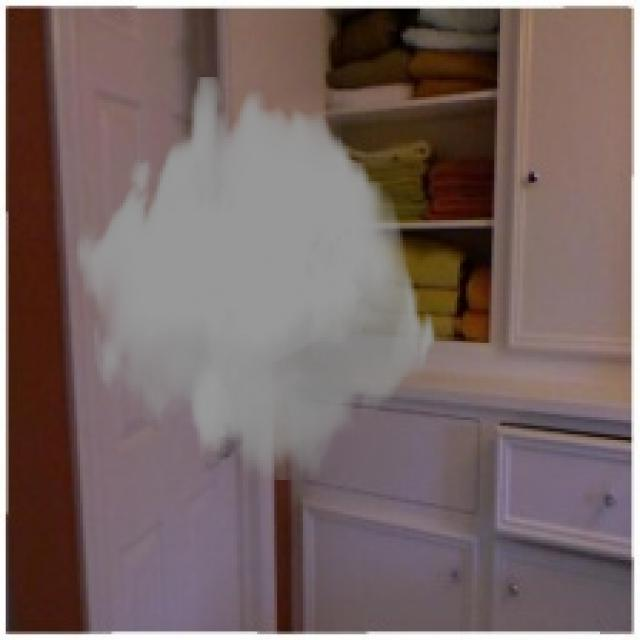Smoke: (74, 77, 437, 480)
